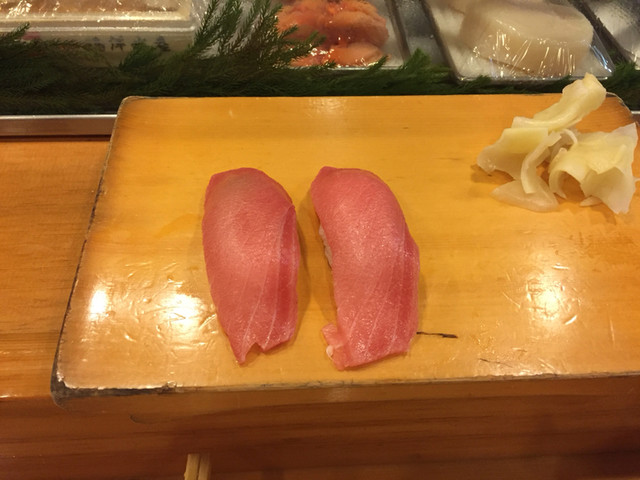medium_fatty_tuna: (311, 165, 422, 367), (202, 167, 298, 355)
